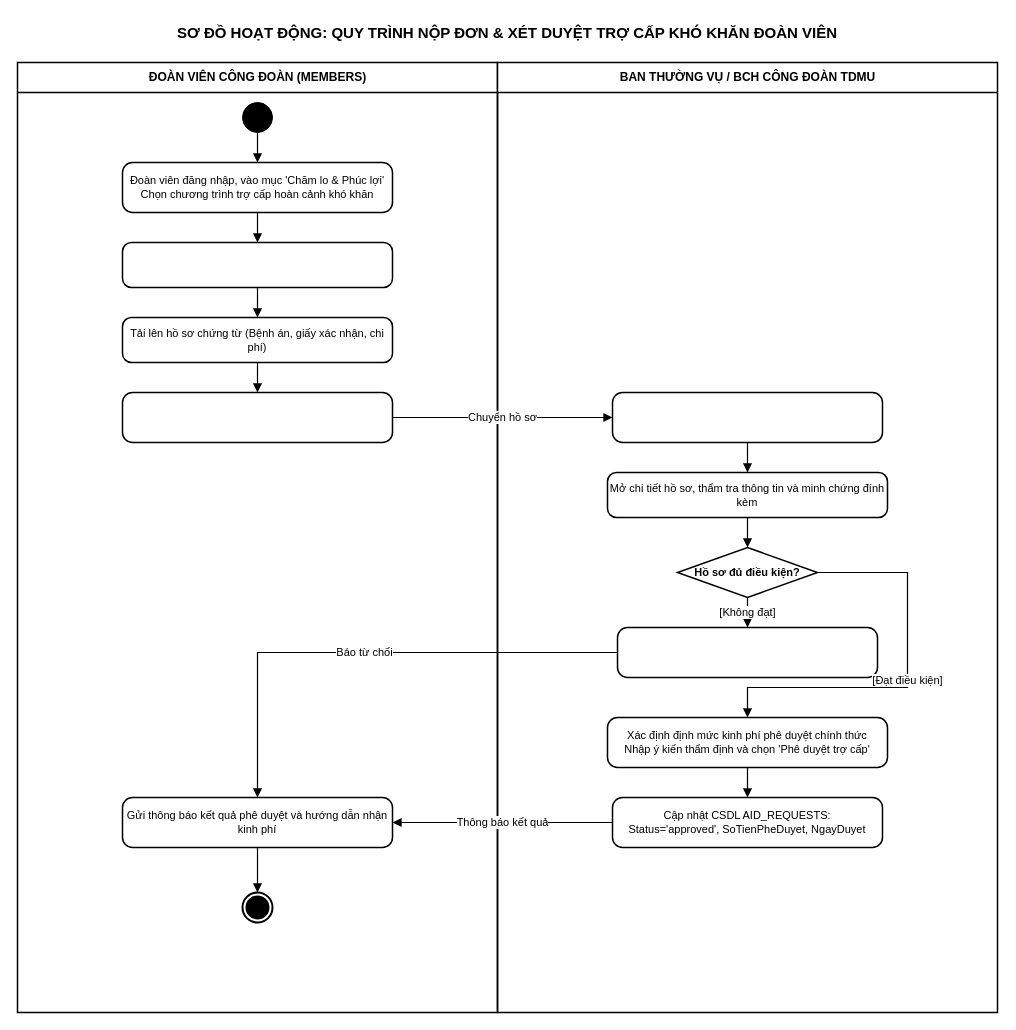
Some shapes in this 1016 by 1030 pixel diagram are drawn without their labels. Each missing label, with the centre of its shape:
"Ban Thường vụ tiếp nhận hồ sơ đề xuất trợ cấp mới" goes at point 747,417.
"Nhấn 'Nộp đơn xin trợ cấp' Lưu vào bảng AID_REQUESTS trạng thái 'pending'" goes at point 257,417.
"Nhập lý do không phê duyệt hỗ trợ Cập nhật trạng thái 'rejected'" goes at point 747,652.
"Điền thông tin hoàn cảnh và số tiền đề xuất xin hỗ trợ" goes at point 257,264.
